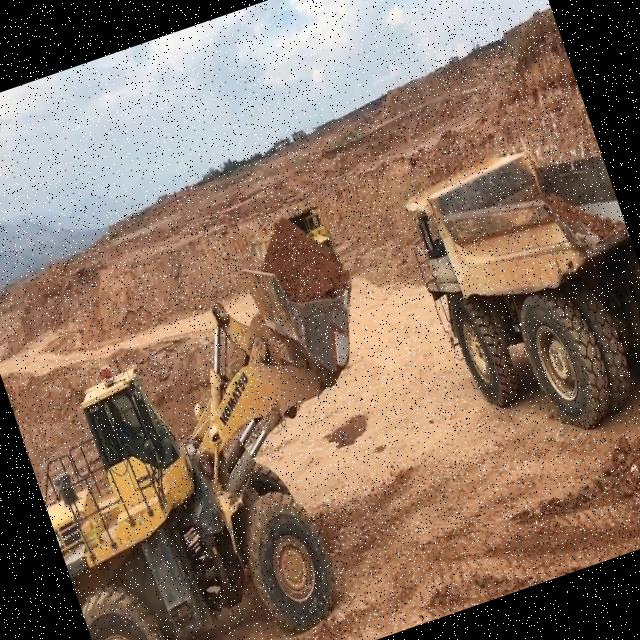Dump Truck: (386, 118, 640, 466)
Loader: (0, 199, 468, 640)
